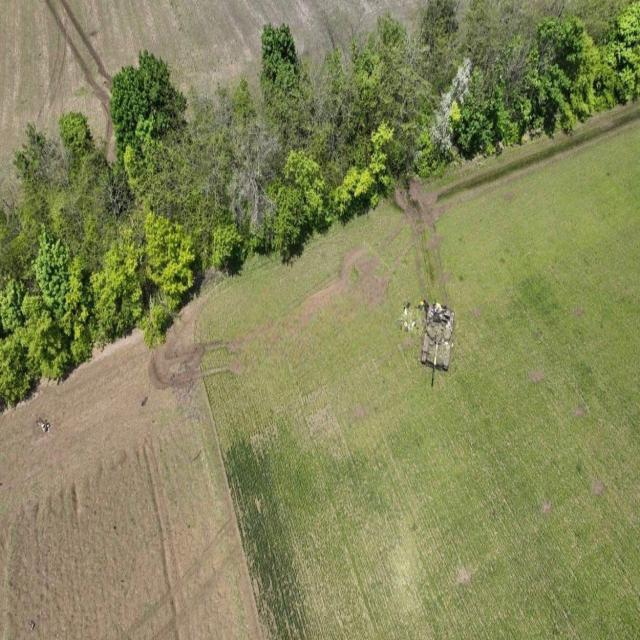MBT: (420, 302, 458, 385)
